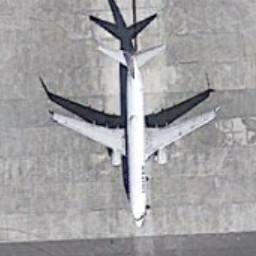Airplane: (41, 37, 229, 242)
